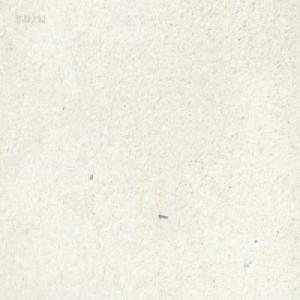Nail: (157, 212, 168, 220)
